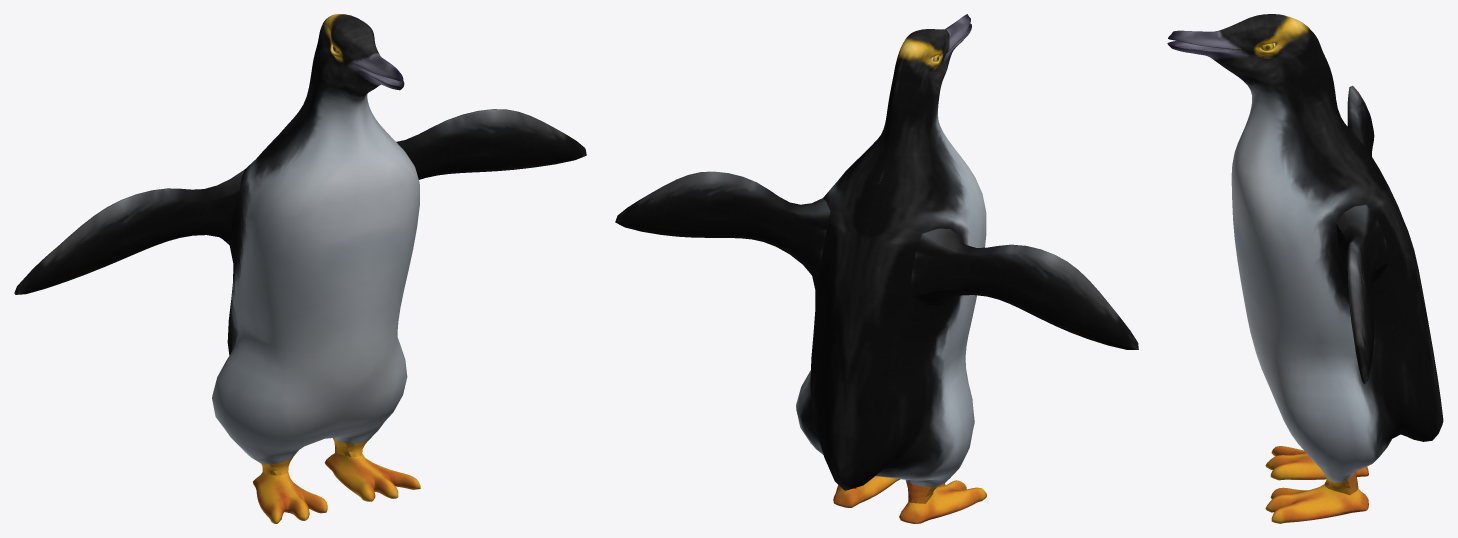
The model's file is penguin.obj.
The picture shows the model from 3 angles, left to right: view 1: azimuth 30°, elevation 25°; view 2: azimuth 150°, elevation 25°; view 3: azimuth 270°, elevation 25°; orthographic projection. The views are drawn at different scales.
Visible parts, largest first — view 1: Default; view 2: Default; view 3: Default.
Boxes of the visible parts, x1,y1,x2,y2 form: Default: [14, 14, 586, 523]; Default: [615, 14, 1138, 523]; Default: [1167, 14, 1443, 523].
Size of the model in its own units: 1.3 by 1.07 by 0.5628.
1 material, 1 textured.
